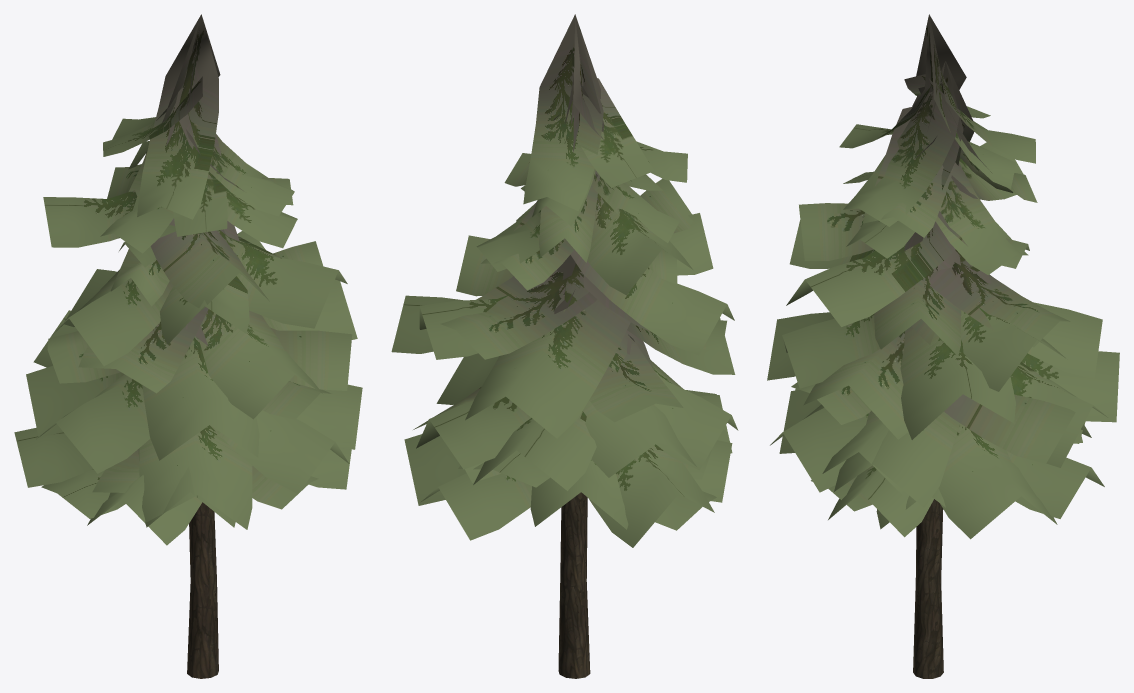
The model's file is PineTree.fbx.
3 renders of one model, left to right at view 1: azimuth 30°, elevation 25°; view 2: azimuth 150°, elevation 25°; view 3: azimuth 270°, elevation 25°, orthographic.
Visible parts, largest first — view 1: pineTreeMedium_Snow; view 2: pineTreeMedium_Snow; view 3: pineTreeMedium_Snow.
Boxes of the visible parts, x1=… form: pineTreeMedium_Snow: x1=14, y1=14, x2=362, y2=678; pineTreeMedium_Snow: x1=391, y1=14, x2=738, y2=678; pineTreeMedium_Snow: x1=767, y1=14, x2=1119, y2=678.
Bounding box in the file's own units: 736 × 1499 × 729.
